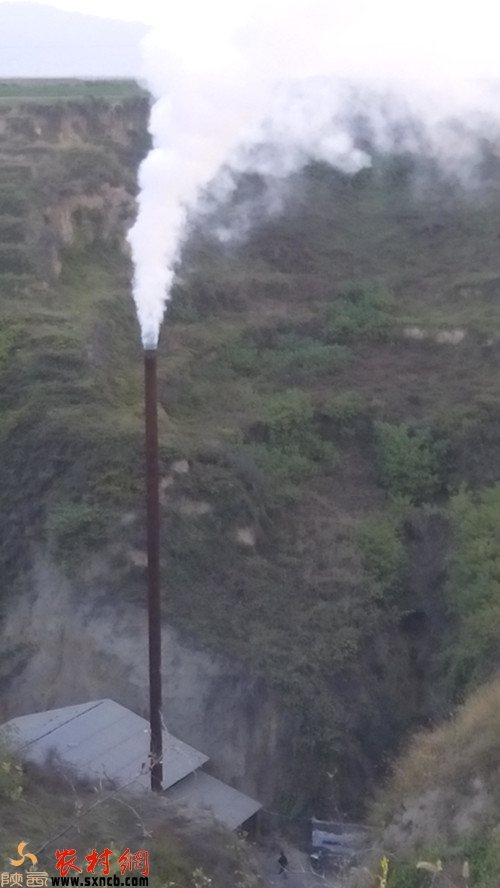dust: (100, 1, 273, 351)
